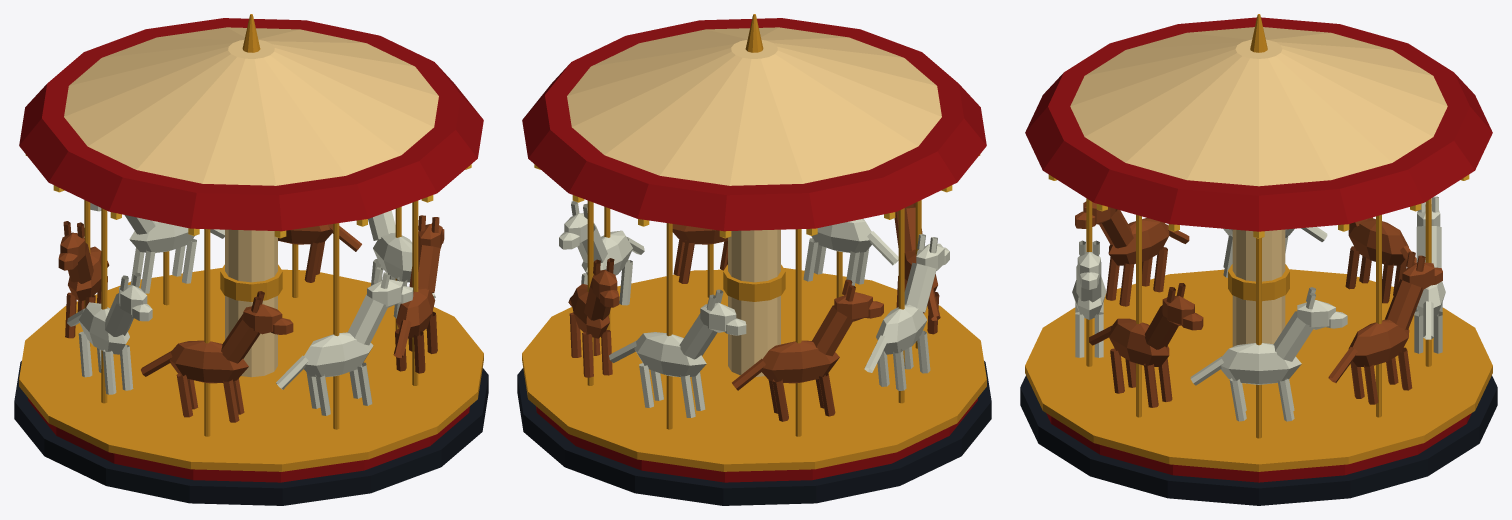
File: LowPolyMerryGoRound.obj
3 renders of one model, left to right at view 1: azimuth 30°, elevation 25°; view 2: azimuth 150°, elevation 25°; view 3: azimuth 270°, elevation 25°, orthographic.
Visible parts, largest first — view 1: Platform_Trim, Canopy_Roof, Canopy_Skirt, Base_Foot, Horse_06, Horse_07, Horse_05, Center_Column, Platform, Horse_08, Horse_03, Horse_04 (+7 smaller); view 2: Platform_Trim, Canopy_Roof, Canopy_Skirt, Base_Foot, Horse_04, Horse_03, Center_Column, Horse_05, Platform, Horse_02, Horse_07, Horse_01 (+7 smaller); view 3: Platform_Trim, Canopy_Roof, Canopy_Skirt, Base_Foot, Horse_01, Horse_02, Horse_08, Horse_06, Center_Column, Platform, Horse_04, Horse_03 (+8 smaller).
Boxes of the visible parts, bbox=[...] form: Platform_Trim: bbox=[19, 268, 483, 471]; Canopy_Roof: bbox=[64, 27, 438, 185]; Canopy_Skirt: bbox=[19, 18, 483, 231]; Base_Foot: bbox=[14, 361, 488, 505]; Horse_06: bbox=[141, 291, 293, 422]; Horse_07: bbox=[276, 267, 413, 415]; Horse_05: bbox=[67, 272, 152, 394]; Center_Column: bbox=[225, 229, 277, 377]; Platform: bbox=[28, 398, 469, 482]; Horse_08: bbox=[393, 215, 444, 373]; Horse_03: bbox=[90, 203, 224, 293]; Horse_04: bbox=[58, 221, 109, 338]; Platform_Trim: bbox=[522, 268, 986, 471]; Canopy_Roof: bbox=[567, 27, 941, 185]; Canopy_Skirt: bbox=[522, 18, 986, 231]; Base_Foot: bbox=[517, 361, 991, 505]; Horse_04: bbox=[732, 279, 883, 421]; Horse_03: bbox=[609, 289, 746, 417]; Center_Column: bbox=[728, 229, 780, 376]; Horse_05: bbox=[864, 234, 949, 390]; Platform: bbox=[536, 398, 977, 482]; Horse_02: bbox=[568, 258, 619, 377]; Horse_07: bbox=[803, 218, 898, 285]; Horse_01: bbox=[559, 201, 644, 305]; Platform_Trim: bbox=[1025, 269, 1492, 471]; Canopy_Roof: bbox=[1070, 27, 1447, 186]; Canopy_Skirt: bbox=[1025, 17, 1492, 231]; Base_Foot: bbox=[1020, 375, 1497, 505]; Horse_01: bbox=[1190, 287, 1347, 421]; Horse_02: bbox=[1328, 251, 1442, 404]; Horse_08: bbox=[1089, 283, 1203, 407]; Horse_06: bbox=[1075, 201, 1189, 306]; Center_Column: bbox=[1232, 229, 1285, 346]; Platform: bbox=[1046, 413, 1471, 482]; Horse_04: bbox=[1345, 217, 1416, 303]; Horse_03: bbox=[1414, 196, 1445, 353].
Bounding box in the file's own units: 6.9 × 6.22 × 6.9.
